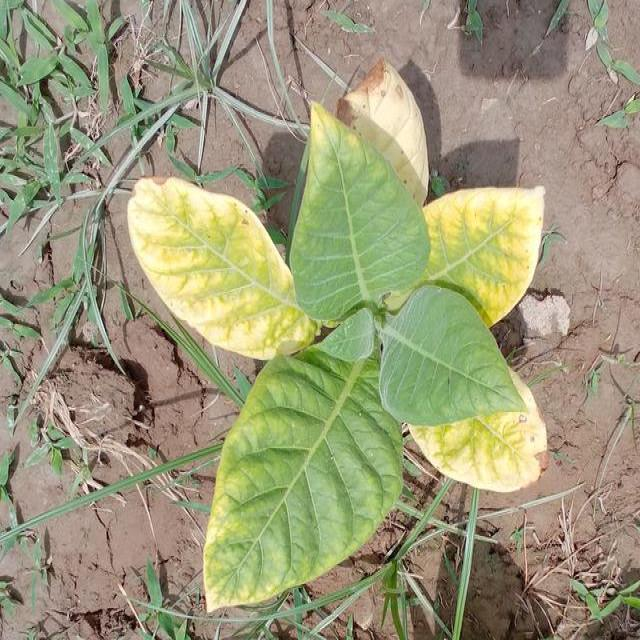crop: (127, 58, 546, 605)
